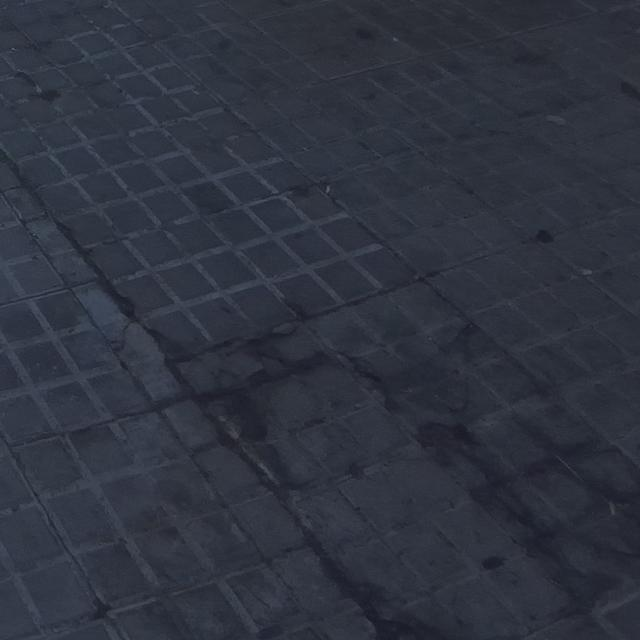calcada_quebrada: (120, 350, 299, 500), (261, 502, 435, 640), (54, 246, 188, 349), (0, 150, 103, 247)
